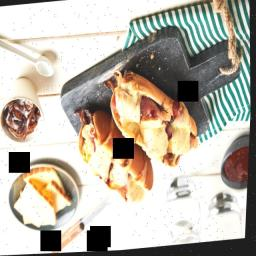hotdog: (105, 63, 205, 186), (69, 109, 157, 222)
